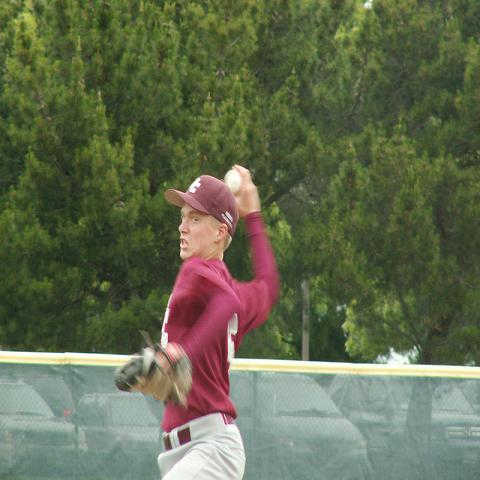car: (330, 374, 480, 478), (229, 372, 370, 478), (59, 366, 163, 479), (2, 376, 77, 476)
